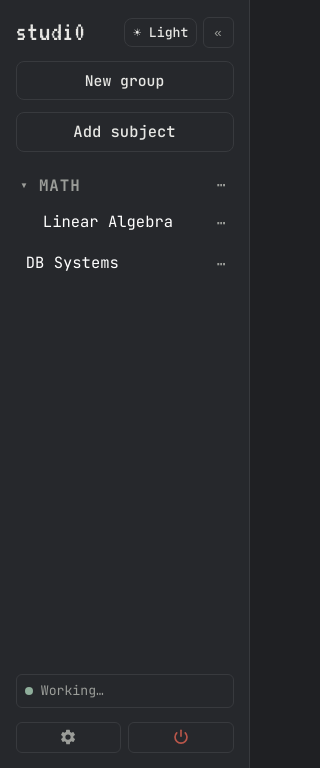
Test: Sidebar agent status › falls back to the raw kind when unknown
// jobs alone still count as work, even with no setup task
Click the button "Working…" at (124, 691), box [16,674,234,708]
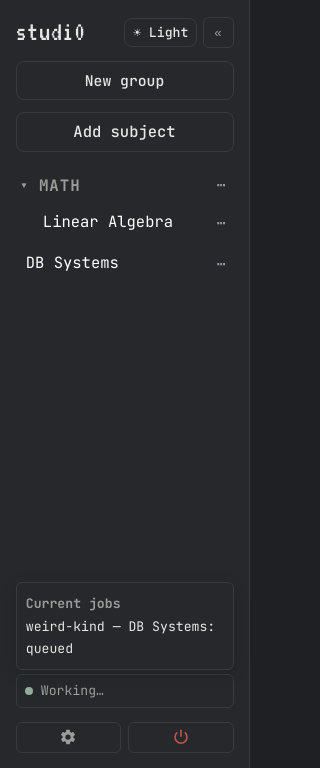
Result: the text "weird-kind — DB Systems: queued" is shown at [26,616,223,659]
